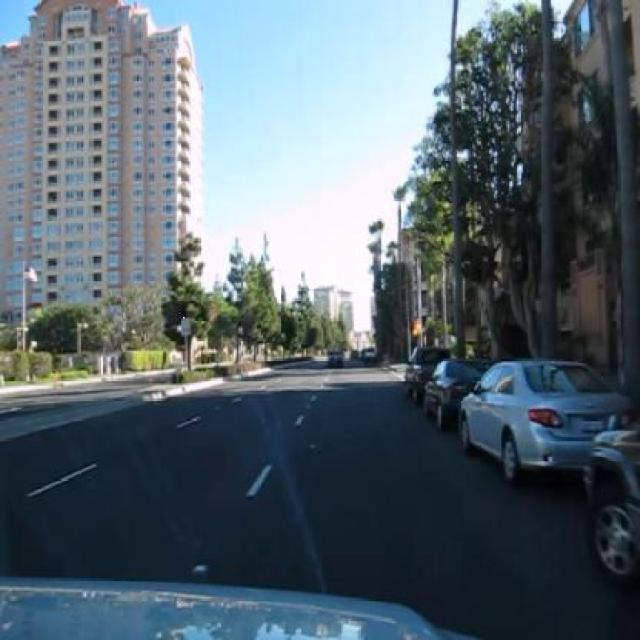speedLimit35: (178, 318, 191, 337)
